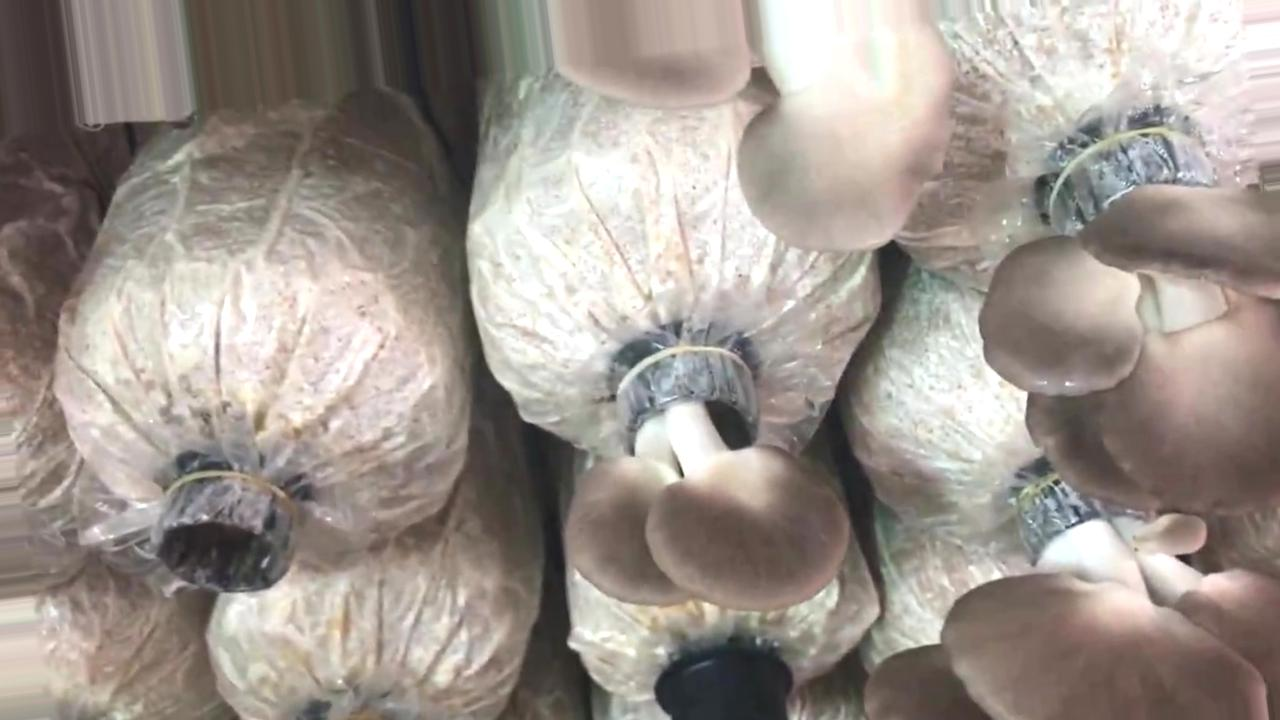nam: (977, 114, 1278, 510), (863, 467, 1279, 720), (549, 2, 955, 250), (567, 334, 853, 609)
